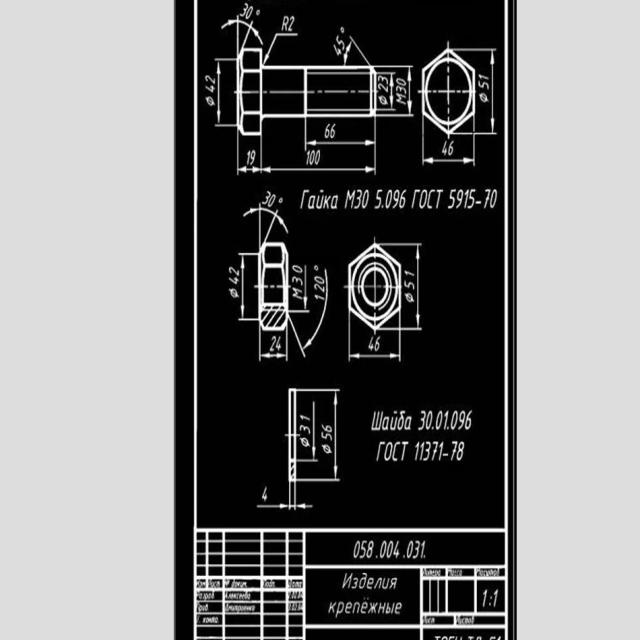marking_line: (289, 307, 323, 359), (219, 17, 262, 46), (263, 33, 300, 65), (262, 167, 375, 175), (349, 351, 403, 366), (333, 390, 342, 479), (254, 501, 314, 513), (307, 139, 377, 147), (216, 62, 224, 128), (489, 50, 495, 134), (238, 252, 245, 317), (310, 401, 317, 460), (424, 156, 474, 164), (256, 353, 288, 363), (407, 69, 413, 112), (244, 147, 257, 166), (389, 72, 396, 107), (237, 166, 260, 175)
numeric: (310, 276, 325, 305), (304, 151, 326, 168), (289, 262, 303, 288), (403, 267, 417, 292), (438, 138, 456, 157), (228, 266, 243, 286), (263, 186, 276, 209), (477, 71, 491, 92), (323, 123, 339, 141), (321, 422, 334, 444), (367, 336, 381, 354), (299, 413, 310, 435), (377, 76, 391, 93), (269, 332, 280, 353), (395, 78, 408, 95)
special_symbol: (321, 444, 335, 458), (404, 292, 417, 305), (203, 96, 216, 107), (378, 95, 389, 107), (227, 288, 239, 299), (479, 90, 489, 103), (300, 436, 310, 448), (338, 26, 349, 36), (313, 263, 320, 272), (257, 8, 263, 16)
